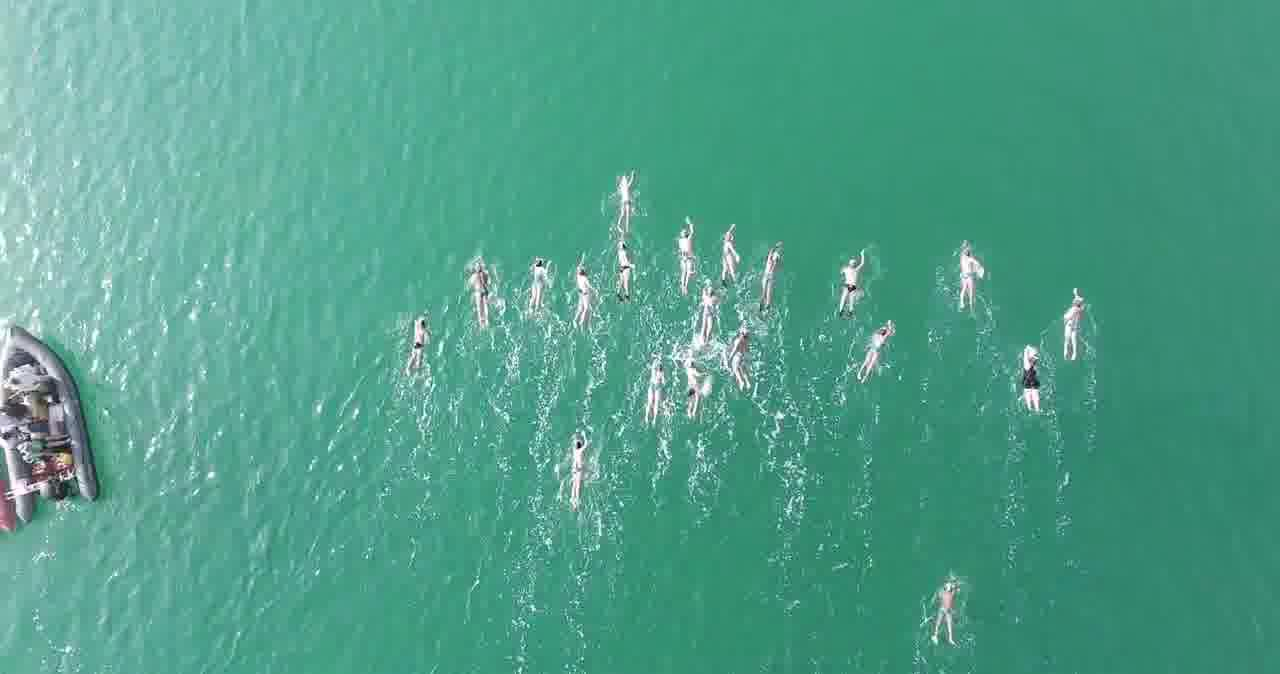human: (451, 254, 497, 316), (558, 428, 597, 499), (926, 568, 962, 633), (832, 253, 874, 306), (1008, 343, 1043, 406), (396, 312, 435, 365), (602, 234, 634, 288), (1060, 288, 1089, 346), (683, 358, 714, 412), (640, 351, 667, 411), (570, 251, 590, 328), (727, 324, 755, 379), (519, 248, 545, 307), (948, 237, 973, 296), (608, 162, 636, 213), (764, 242, 783, 308), (861, 324, 887, 367), (712, 218, 732, 269), (694, 286, 714, 330), (672, 228, 684, 266)
